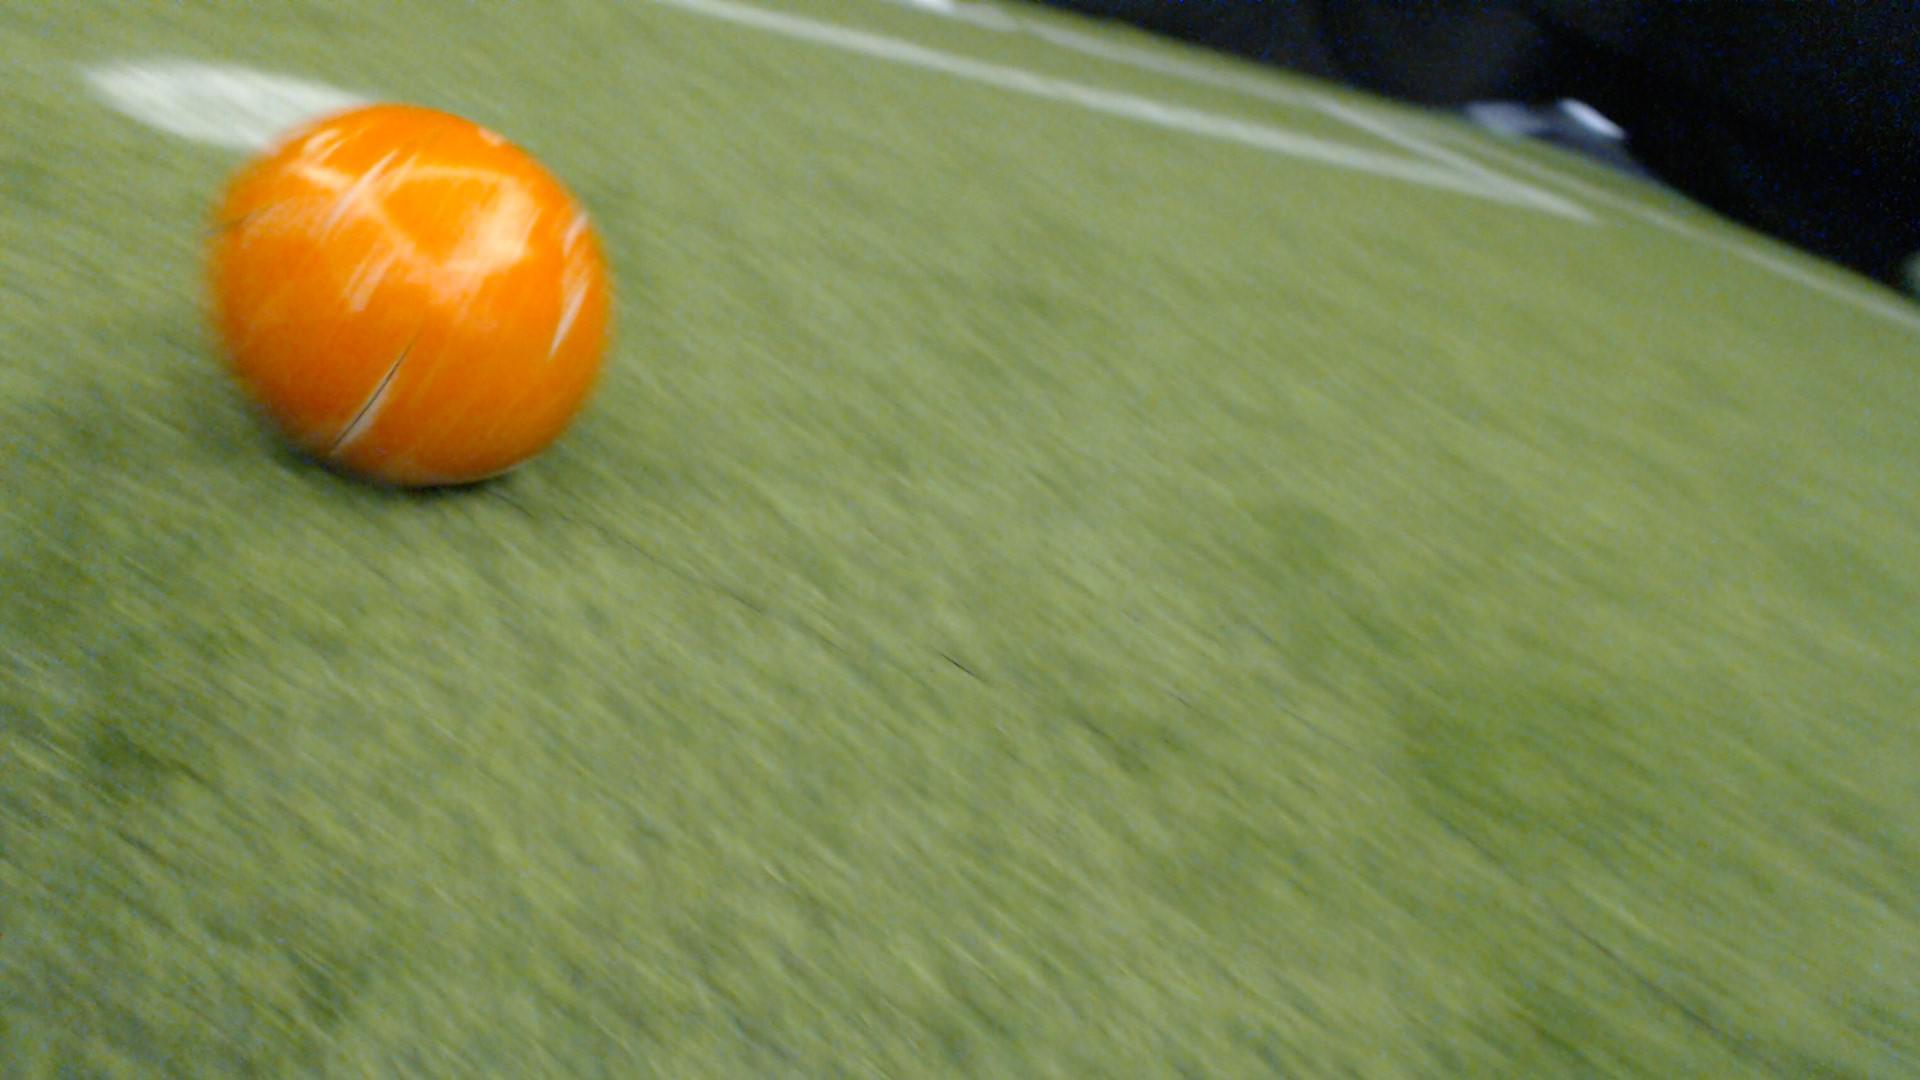bola: (202, 99, 629, 502)
